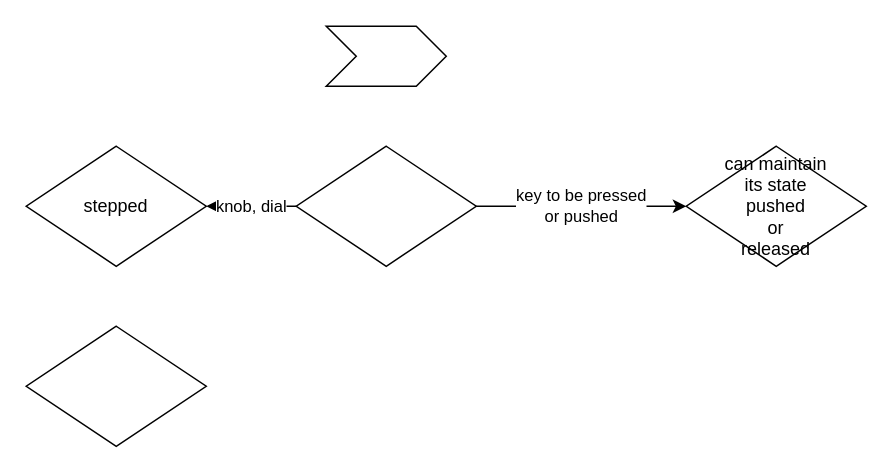
Some shapes in this 893 by 473 pixel diagram are drawn without their labels. The shapes that lost their labels are listed below. From the top down, each one's centre as x and y in pixels, then its label:
(x=385, y=205): type of "button"
(x=115, y=385): can be pressed
